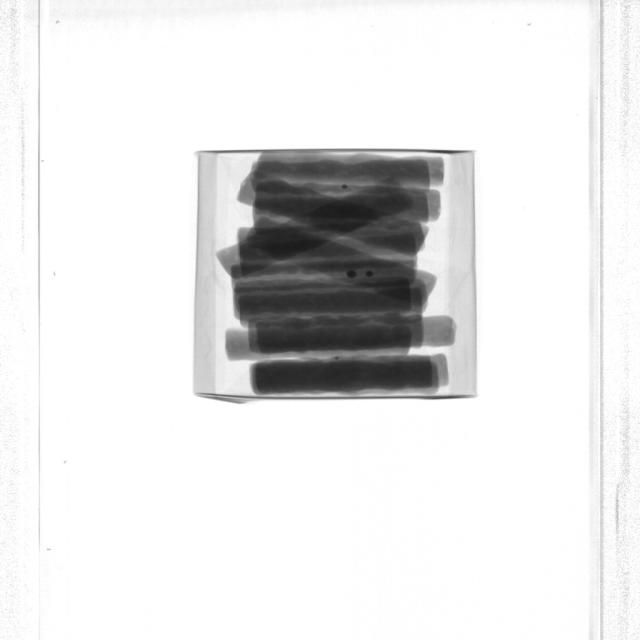ym: (347, 271, 357, 280), (366, 270, 374, 278), (342, 185, 348, 190), (334, 356, 339, 361)
